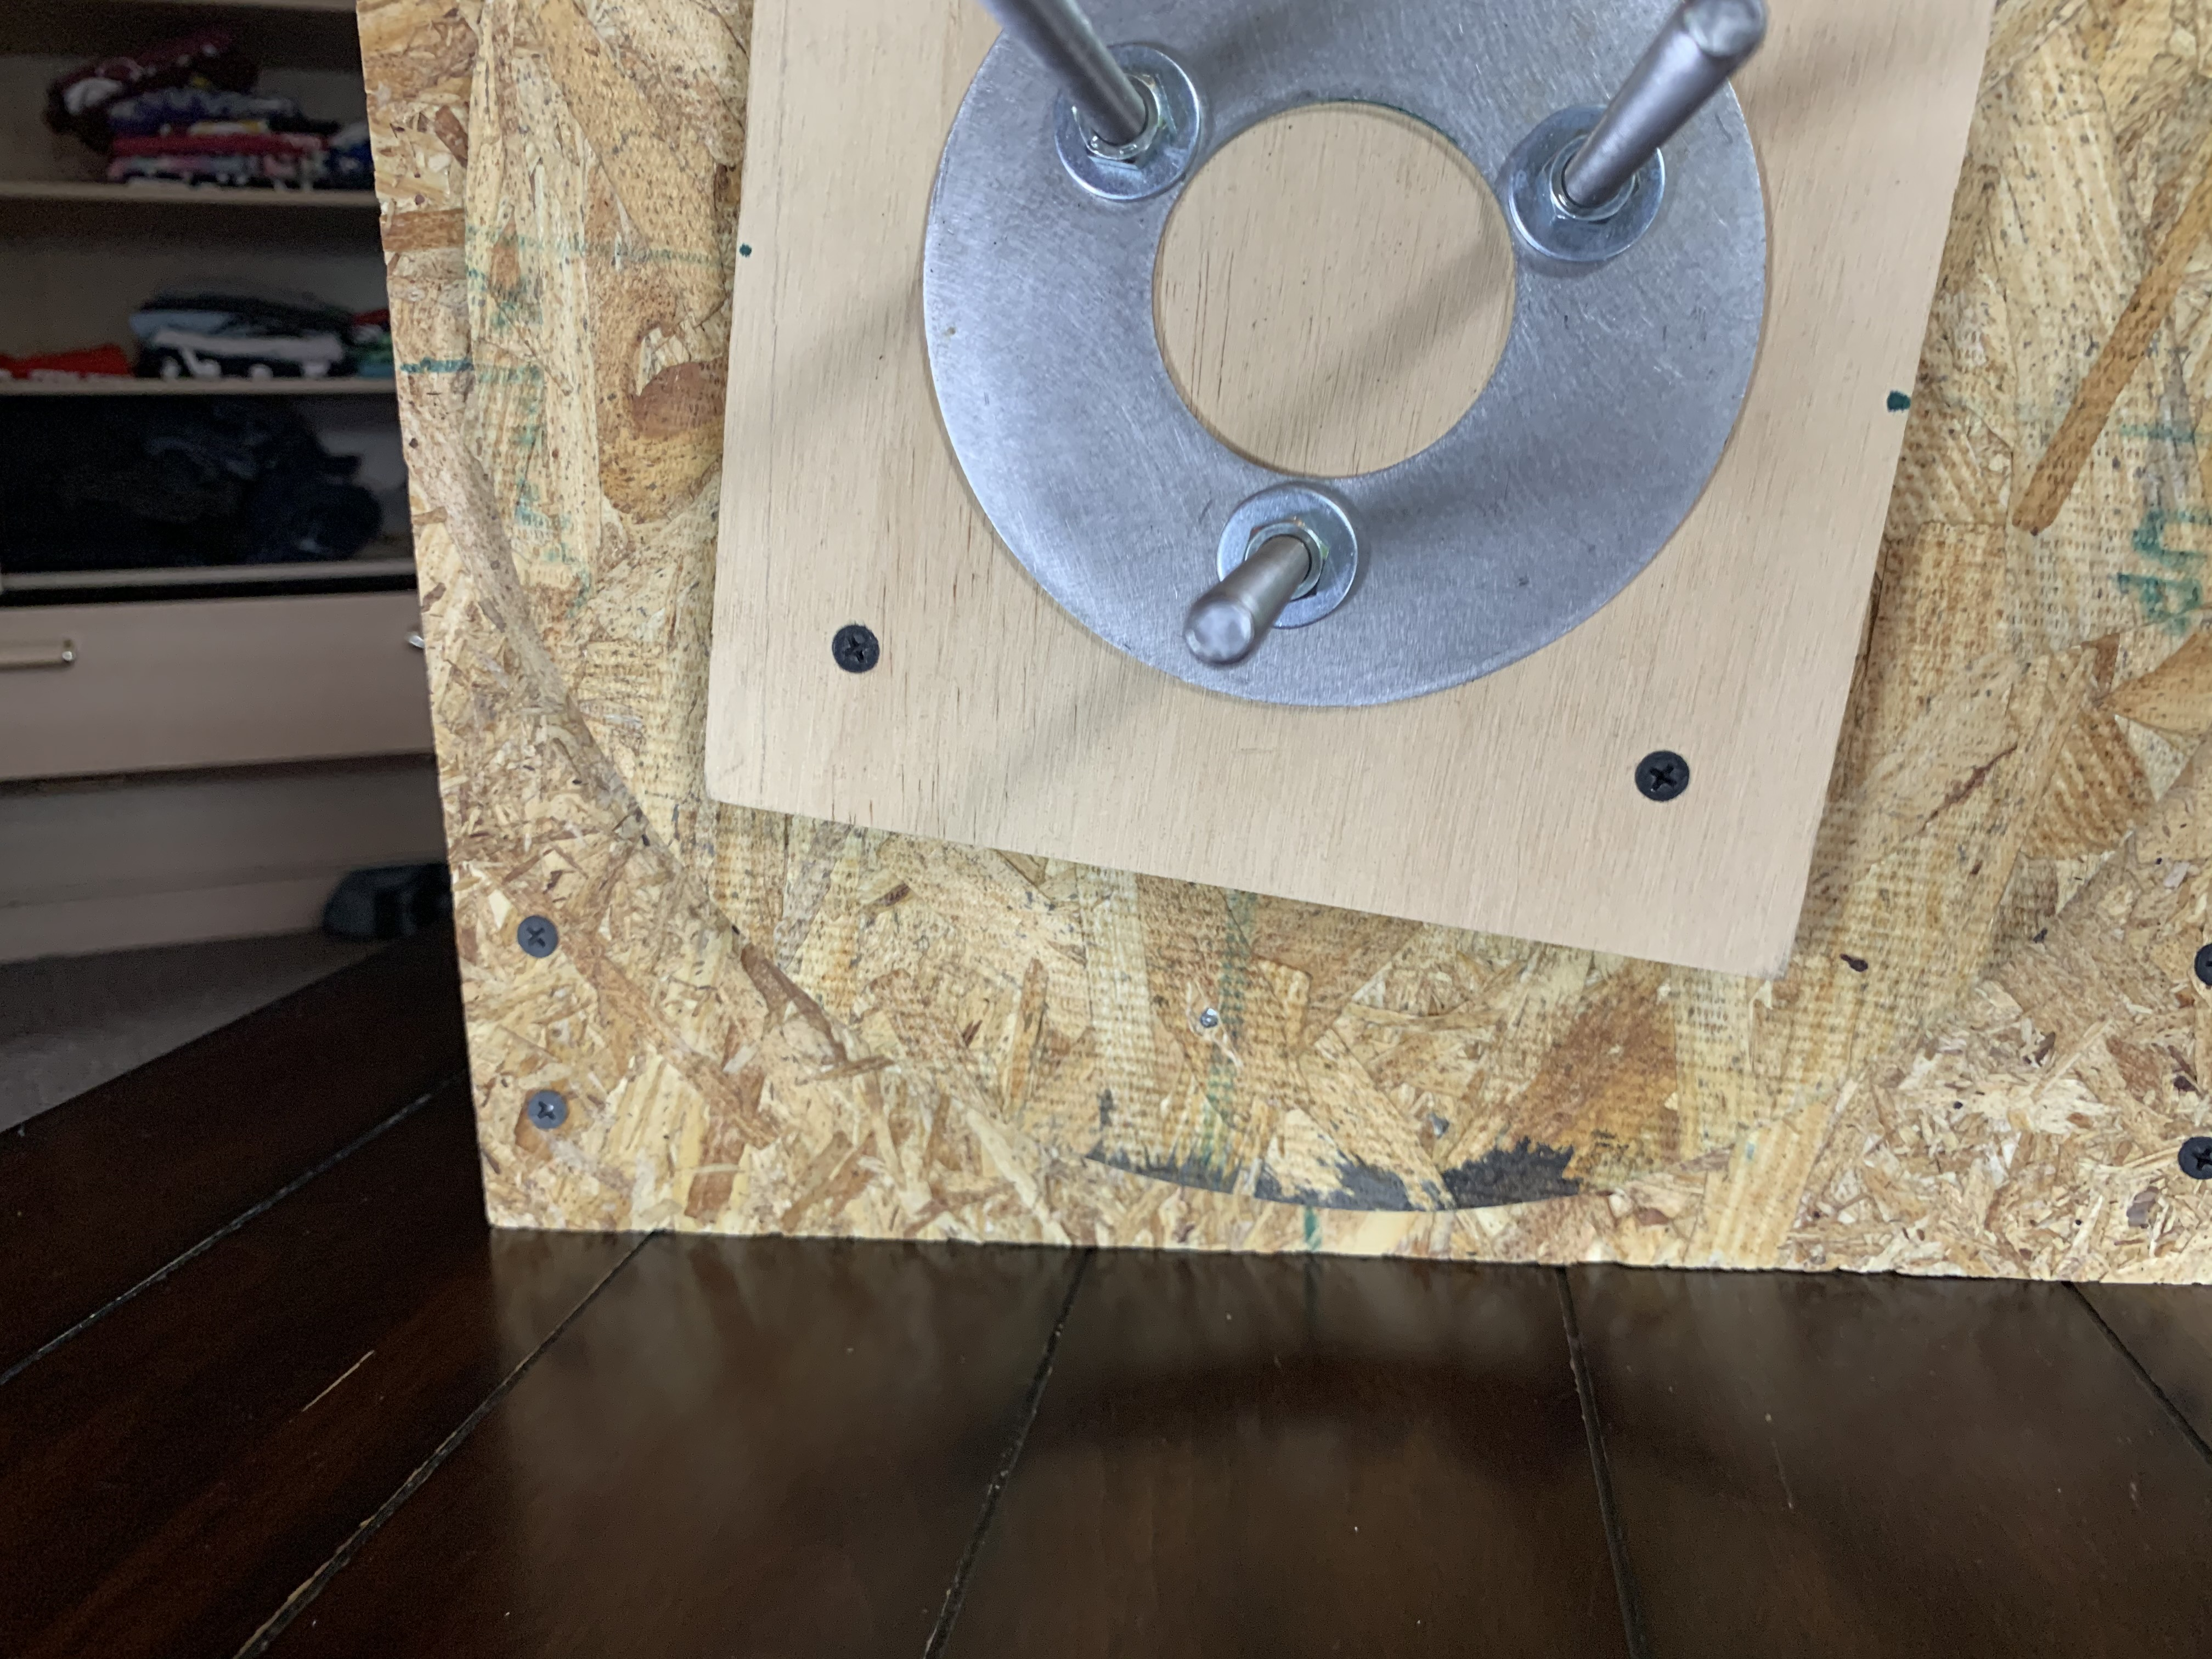bolt: (1045, 31, 1207, 204), (1500, 105, 1665, 272), (1211, 479, 1364, 633)
